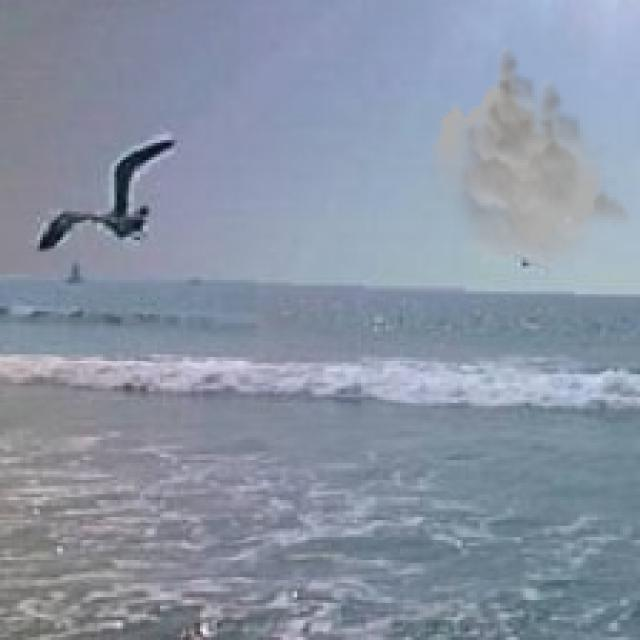Smoke: (428, 40, 632, 277)
